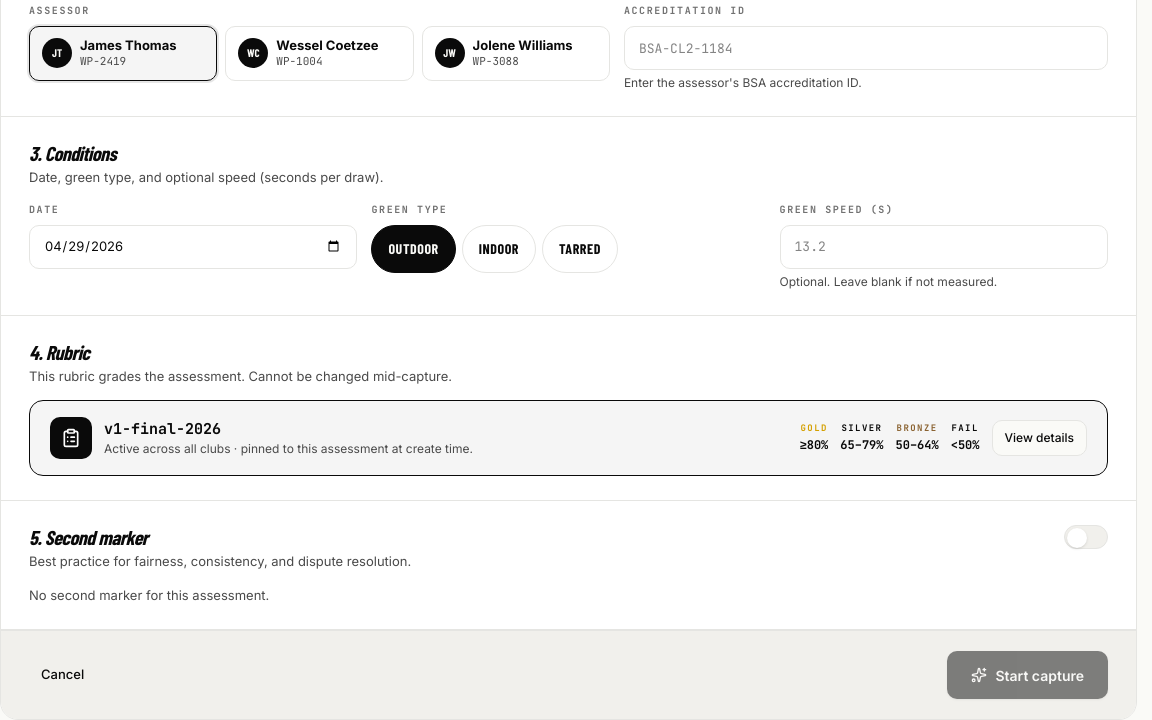
Test: <NewAssessmentForm /> — rubric details modal › View details opens the modal with rubric label + 7-row table
This screenshot has width=1152, height=720.
(page scrolled)
Click the button "View details".
click(1039, 438)  # box [992,420,1087,456]
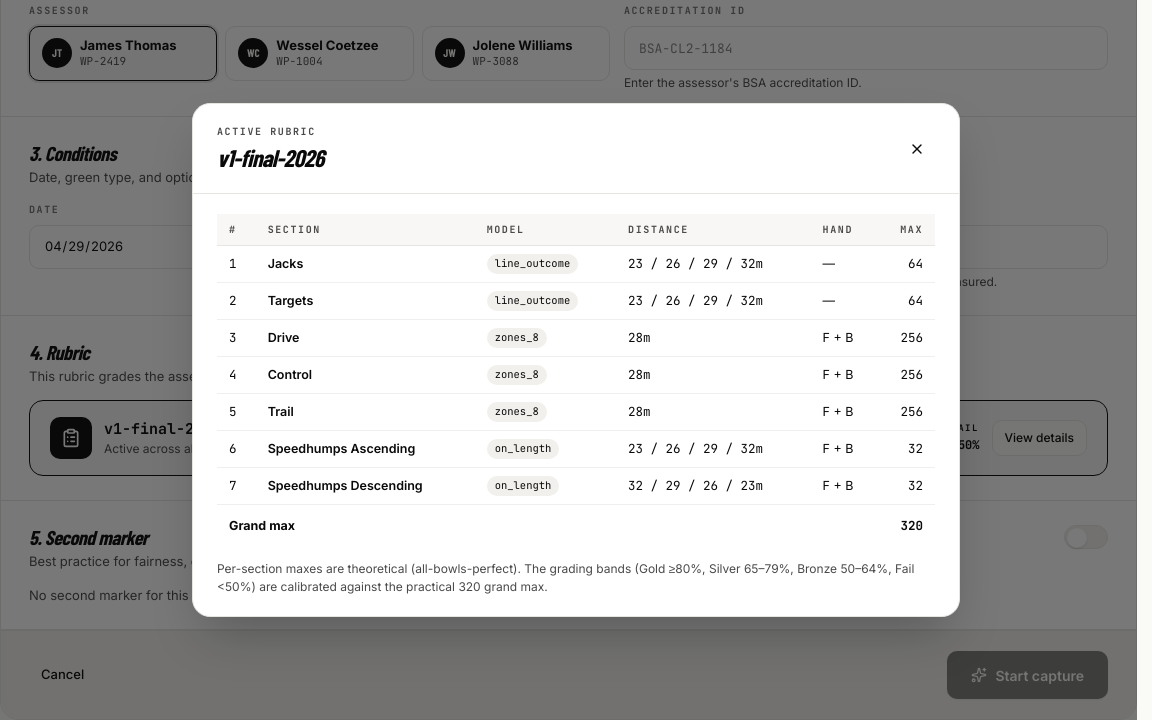
expect the element that starts with "Active rubric" is shown: met, box [192,103,960,617]
expect the element that starts with "Active rubric" shows "v1-final-2026": met, box [217,143,324,172]
expect the element that starts with "Active rubric" shows "Grand max": met, box [229,518,295,533]
